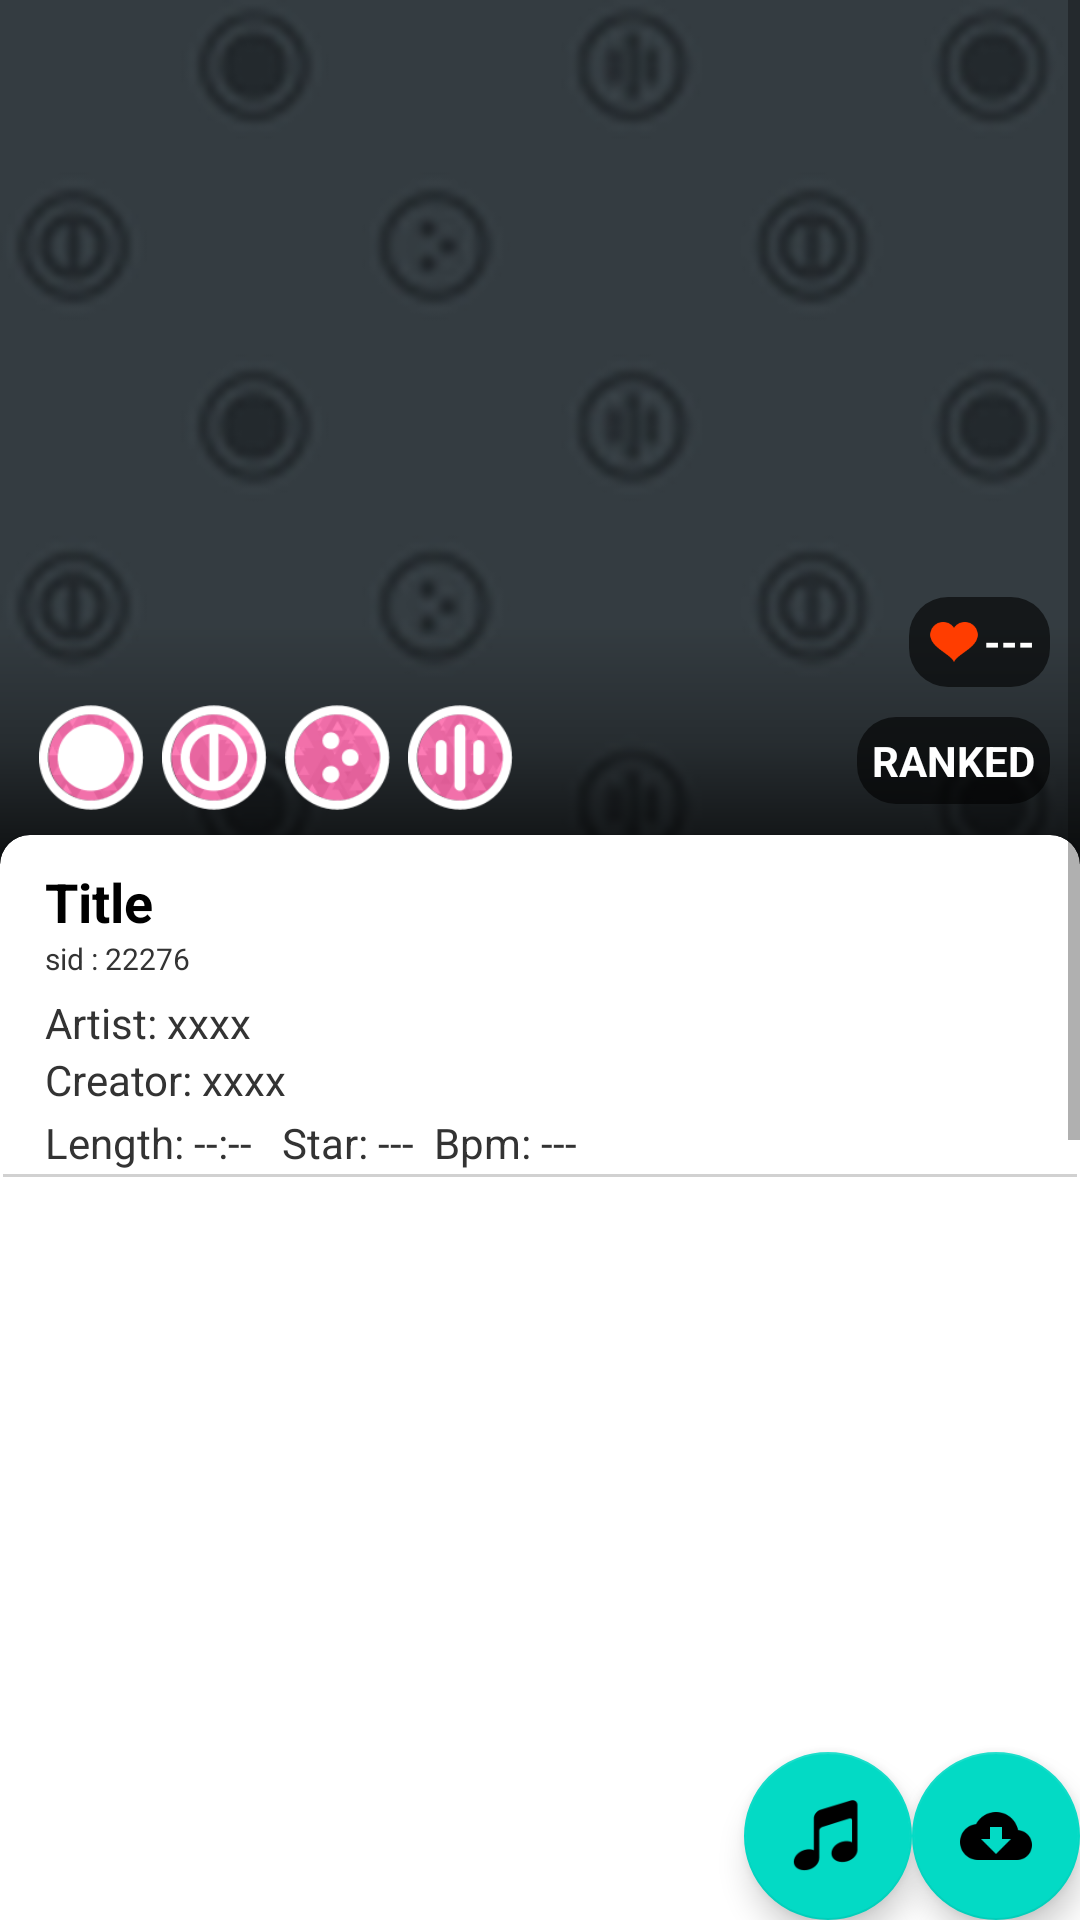

Icons on this 1080px x 1920px Android screen, each with its box as (x1, y1, x2, y2):
download: (912, 1752, 1080, 1920)
heart: (930, 622, 978, 662)
mode catch: (285, 705, 390, 810)
mode mania: (408, 705, 513, 810)
mode std: (39, 705, 144, 810)
mode taiko: (162, 705, 267, 810)
music: (744, 1752, 912, 1920)
